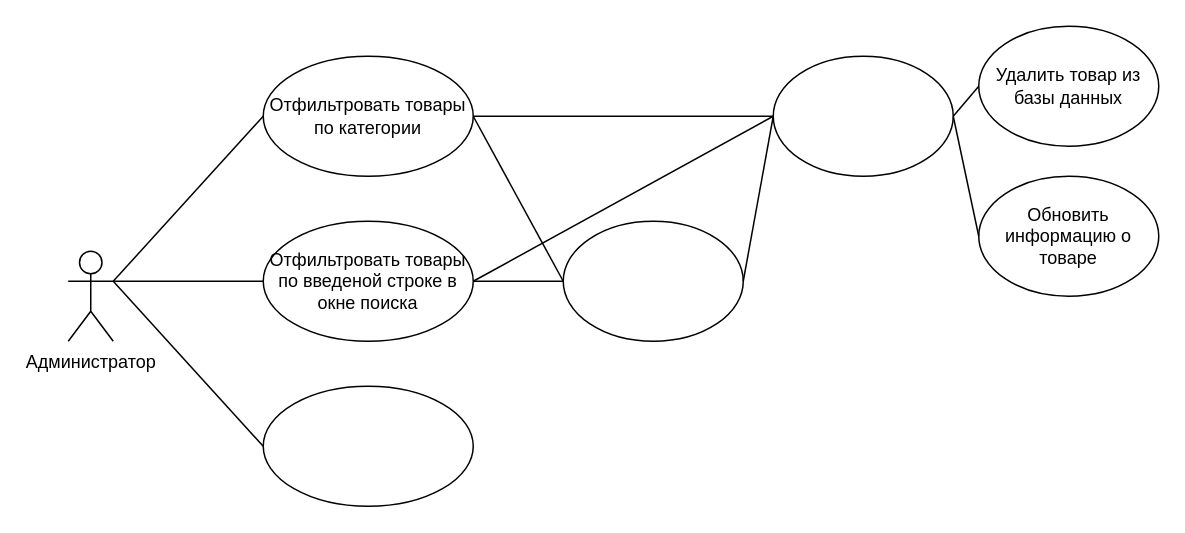
Image size: 1185x533. Some labels were removed from this diagram. Here are the shapes that lost their labels. From the top down, the centre of each, then its label:
At point 862,115: "Зайти на страницу товара".
At point 652,280: "Отстортировать товары по цене".
At point 367,445: "Добавить товар в базу данных".
